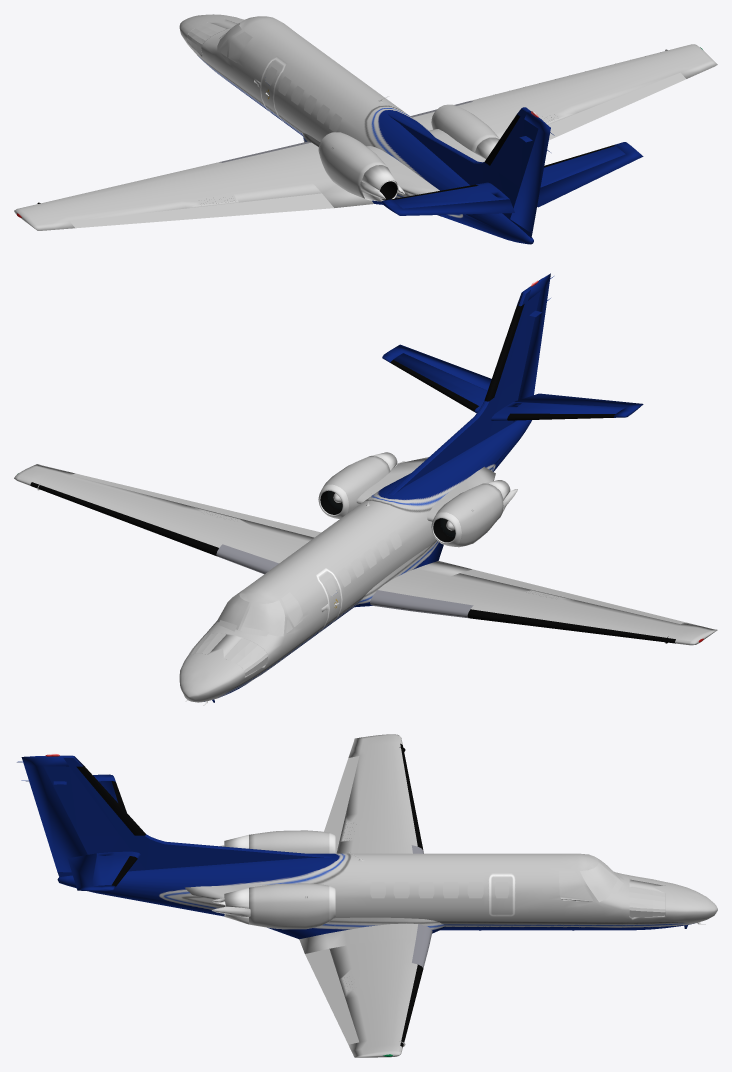
3 views of the same model, one above another, from view 1: azimuth 30°, elevation 25°; view 2: azimuth 150°, elevation 25°; view 3: azimuth 270°, elevation 25° (orthographic). The views are drawn at different scales.
Visible parts, largest first — view 1: Fuselage, LHwing_002, RHwing_003, LHwing_003, Fin, RHwing_002, Hstab, LEngine, Rudder, LHflap, LHwing_001, REngine (+11 smaller); view 2: Fuselage, Fin, RHwing_002, LHwing_002, RHwing_003, LHwing_003, Hstab, LEngine, Glass, REngine, Pylons, Rudder (+14 smaller); view 3: Fuselage, Fin, LHwing_003, RHwing_002, REngine, RHwing_003, Rudder, LHwing_002, RHwing_001, LEngine, Glass, Glass_001 (+8 smaller).
Boxes of the visible parts, x1,y1,x2,y2 form: Fuselage: (179, 14, 533, 244); LHwing_002: (154, 150, 321, 208); RHwing_003: (543, 44, 717, 113); LHwing_003: (14, 177, 187, 230); Fin: (388, 107, 538, 237); RHwing_002: (414, 82, 576, 138); Hstab: (393, 146, 625, 208); LEngine: (319, 132, 387, 198); Rudder: (510, 111, 554, 233); LHflap: (188, 193, 333, 218); LHwing_001: (277, 142, 373, 207); REngine: (432, 105, 499, 152); Fuselage: (179, 420, 531, 702); Fin: (388, 287, 541, 495); RHwing_002: (154, 505, 313, 562); LHwing_002: (414, 573, 576, 619); RHwing_003: (14, 464, 187, 524); LHwing_003: (543, 600, 717, 645); Hstab: (393, 353, 625, 420); LEngine: (436, 483, 503, 547); Glass: (217, 585, 302, 636); REngine: (323, 456, 390, 513); Pylons: (356, 457, 495, 521); Rudder: (513, 273, 553, 421); Fuselage: (57, 852, 717, 939); Fin: (43, 755, 331, 876); LHwing_003: (345, 734, 411, 815); RHwing_002: (329, 938, 417, 998); REngine: (249, 883, 329, 929); RHwing_003: (345, 991, 411, 1057); Rudder: (17, 755, 87, 872); LHwing_002: (336, 809, 417, 853); RHwing_001: (299, 923, 417, 953); LEngine: (249, 830, 329, 853); Glass: (559, 857, 620, 901); Glass_001: (370, 882, 508, 898).
Size of the model in its own units: 15.62 by 4.06 by 14.48.
Materials: 7 (5 with a texture image).
